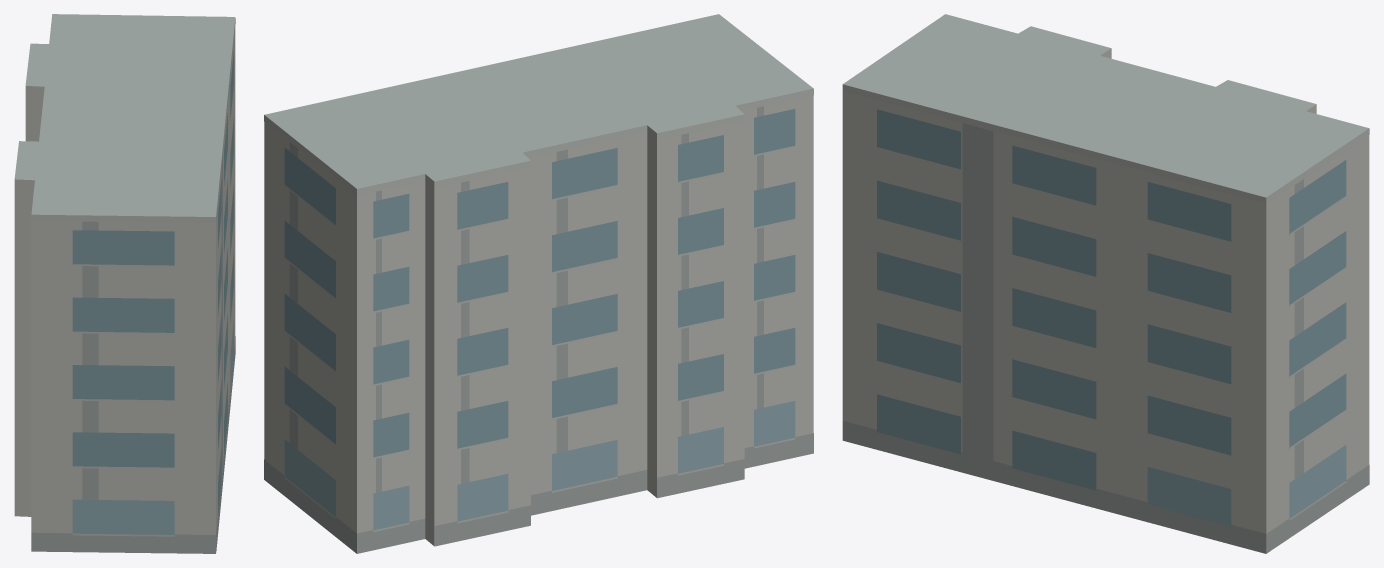
Rendered from survey-upis-32890677.glb.
3 renders of one model, left to right at view 1: azimuth 30°, elevation 25°; view 2: azimuth 150°, elevation 25°; view 3: azimuth 270°, elevation 25°, orthographic. The views are drawn at different scales.
Visible parts, largest first — view 1: survey-upis-32890677.tmp; view 2: survey-upis-32890677.tmp; view 3: survey-upis-32890677.tmp.
Boxes of the visible parts, x1,y1,x2,y2 form: survey-upis-32890677.tmp: [14, 14, 235, 553]; survey-upis-32890677.tmp: [264, 14, 813, 553]; survey-upis-32890677.tmp: [842, 14, 1369, 553].
Size of the model in its own units: 14.37 by 13 by 17.43.
